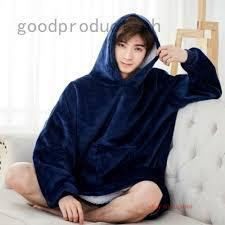sweater: (32, 15, 221, 200)
